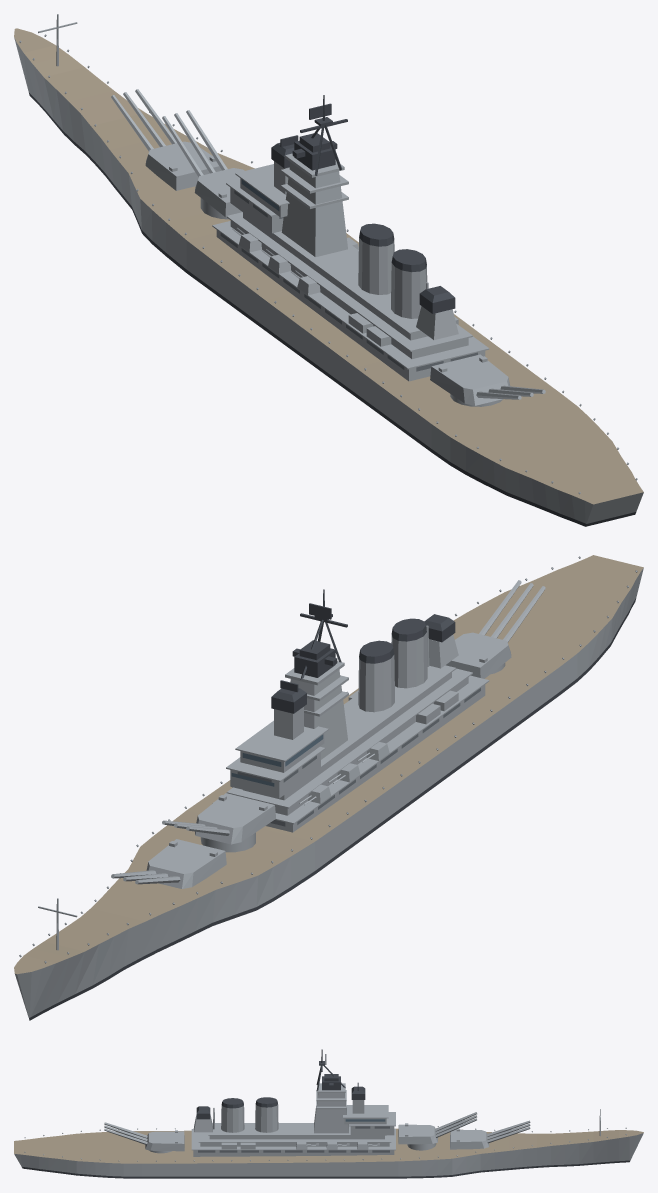
File: phl-battleship-new-jersey.glb
3 renders of one model, top to bottom at view 1: azimuth 30°, elevation 25°; view 2: azimuth 150°, elevation 25°; view 3: azimuth 270°, elevation 25°, orthographic. The views are drawn at different scales.
Parts seen in each view (by area): view 1: Battleship New Jersey; view 2: Battleship New Jersey; view 3: Battleship New Jersey.
Boxes of the visible parts, box(x1,y1,x2,y2) form: Battleship New Jersey: box(14, 14, 643, 526); Battleship New Jersey: box(14, 555, 643, 1020); Battleship New Jersey: box(14, 1049, 643, 1178).
Size of the model in its own units: 33.1 by 53 by 268.
